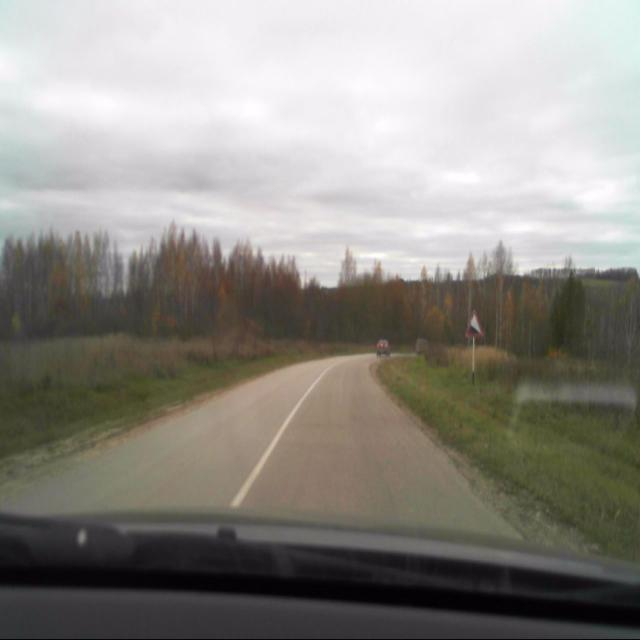object: (472, 340, 475, 386)
road sign: (464, 309, 484, 339)
